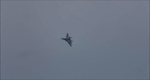maybay_muctieu: (61, 32, 75, 47)
